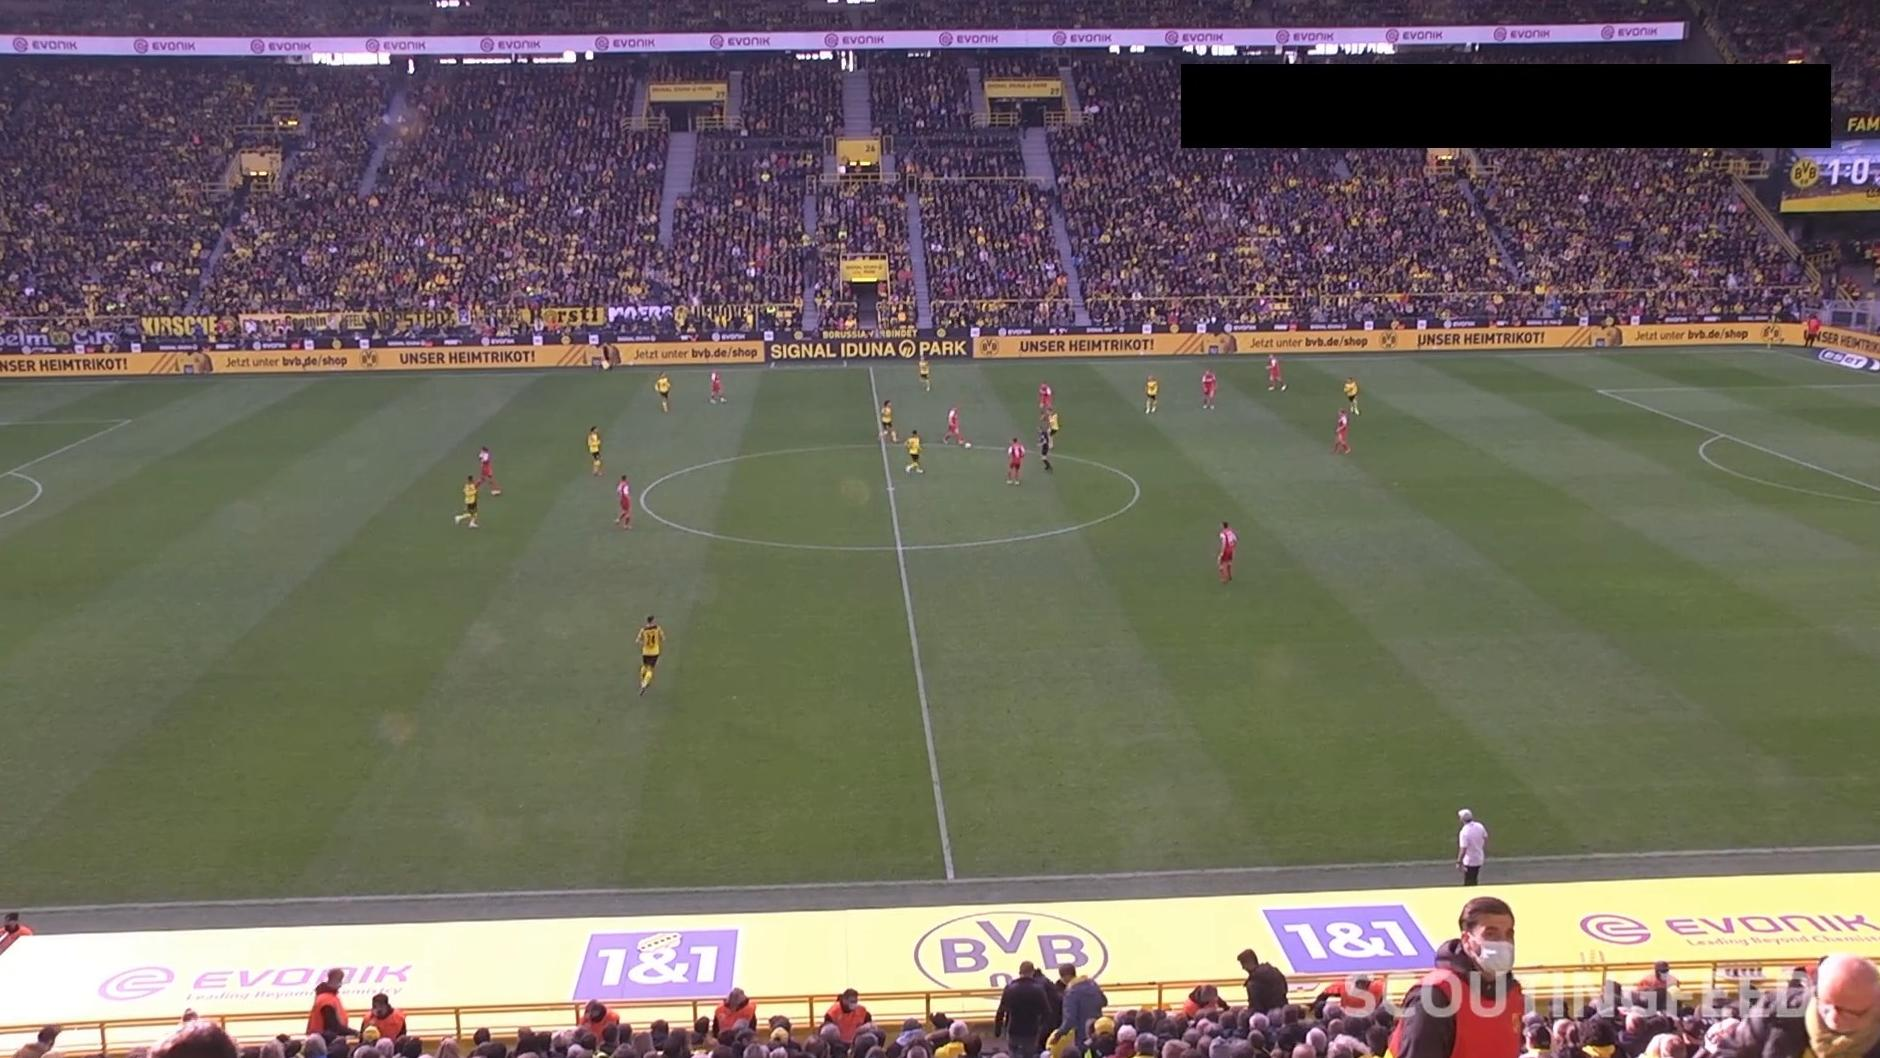ball: (963, 441, 972, 450)
